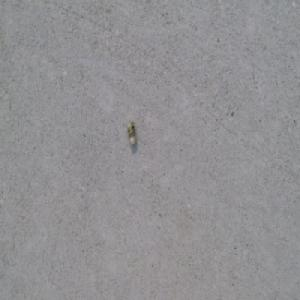BoltNutSet: (126, 120, 137, 146)
